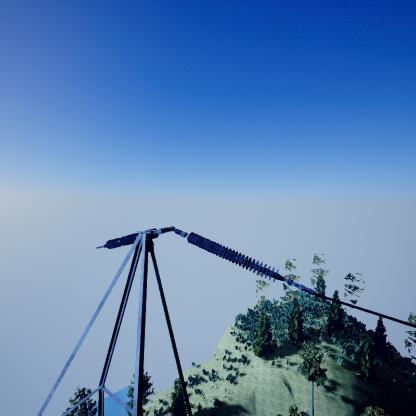insulator: (186, 231, 282, 282)
